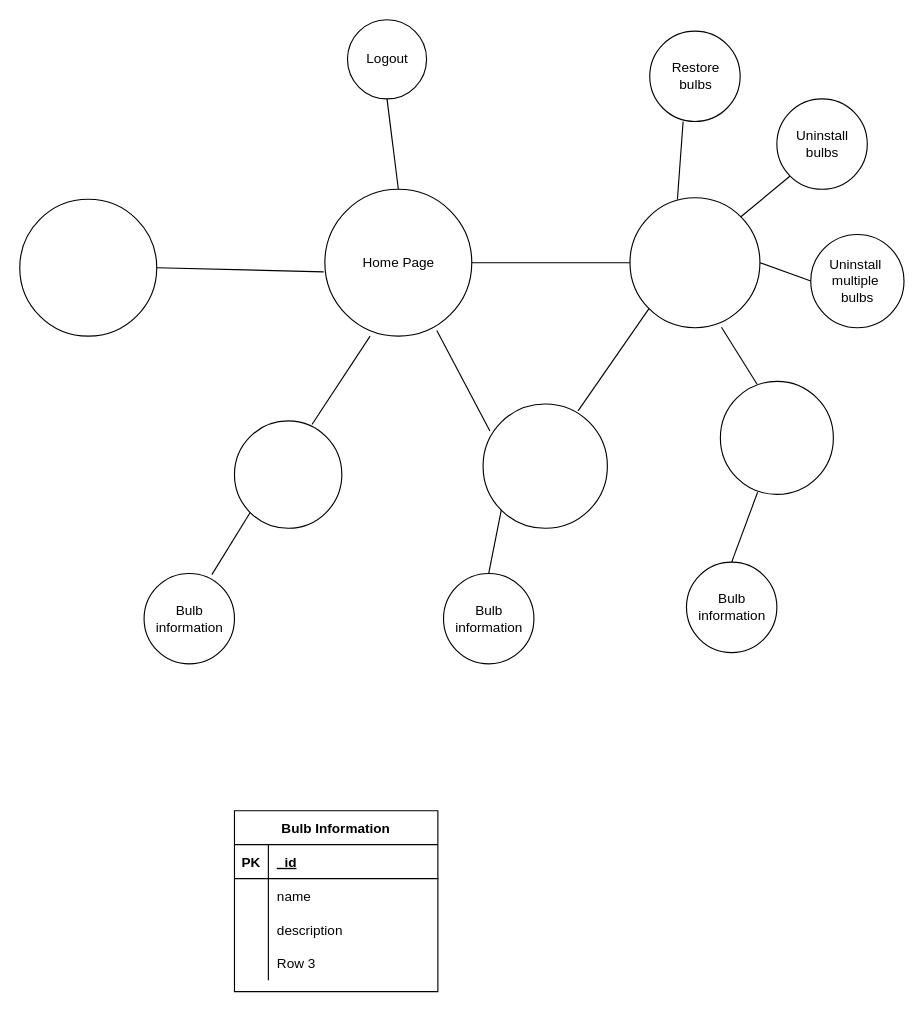
The diagram is 924 pixels wide and 1011 high, and some of its shapes have lost their labels. Each missing label, with the centre of its shape:
"Adjustment bulbs Page" belongs at pixel 776 437.
"Bulb information Page" belongs at pixel 287 474.
"Bulb Management Page" belongs at pixel 694 262.
"Create Bulbs Page" belongs at pixel 544 465.
"Login Page" belongs at pixel 88 267.
